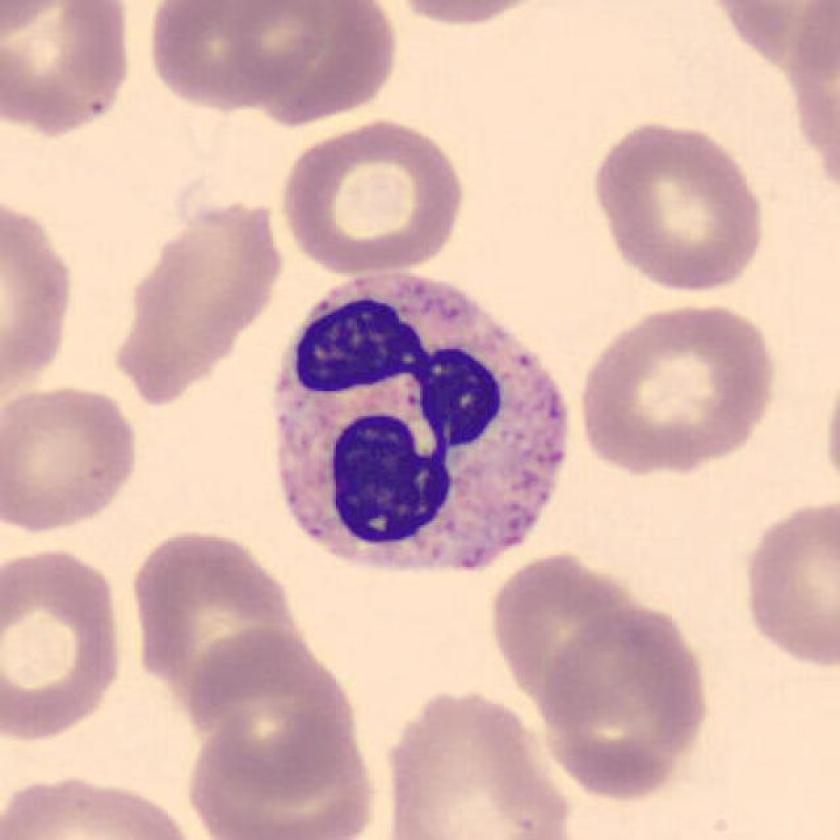neutrophil: (274, 273, 568, 571)
